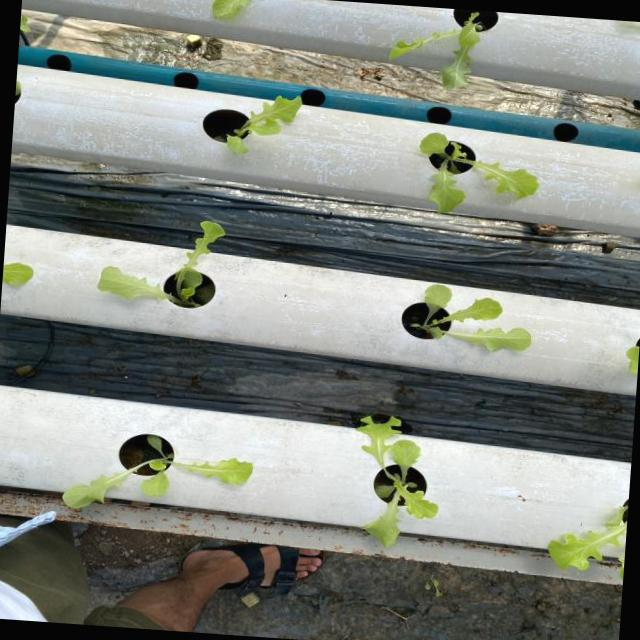Lettuce-Not-Ready-to-Harvest: (62, 435, 252, 508), (357, 416, 438, 546), (97, 221, 224, 302), (420, 132, 539, 212), (421, 284, 531, 350), (548, 499, 628, 570), (226, 95, 301, 153)
